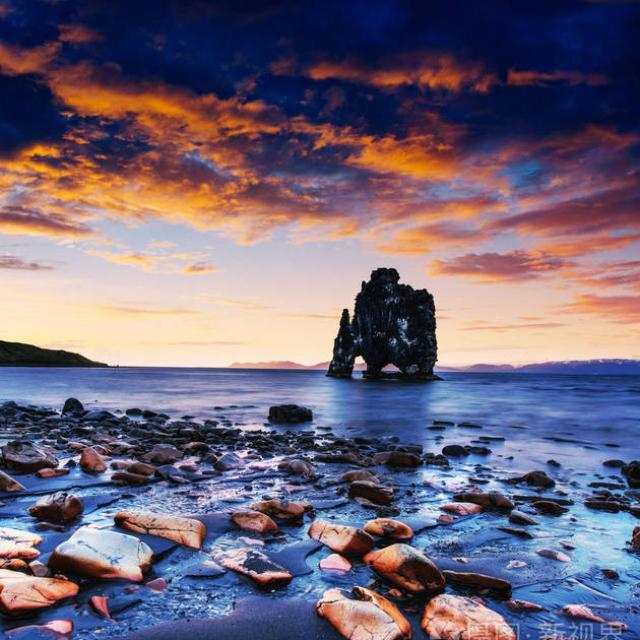reef: (319, 259, 445, 381)
